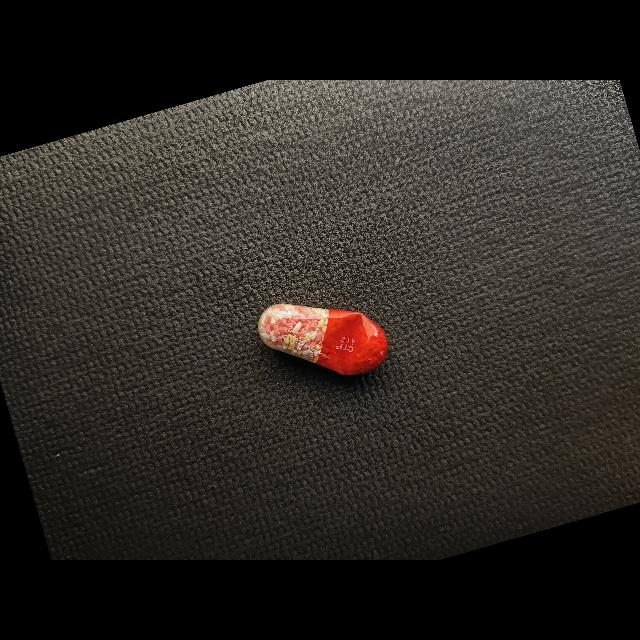Defective Capsule: (258, 303, 388, 375)
